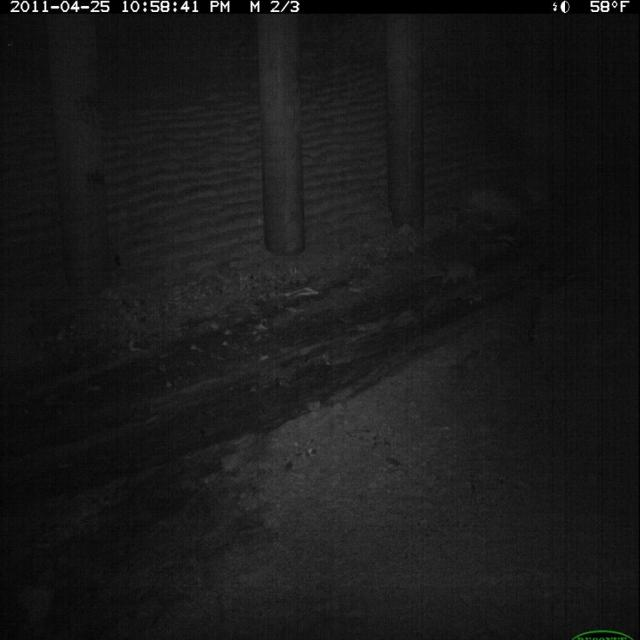opossum: (422, 254, 480, 292)
